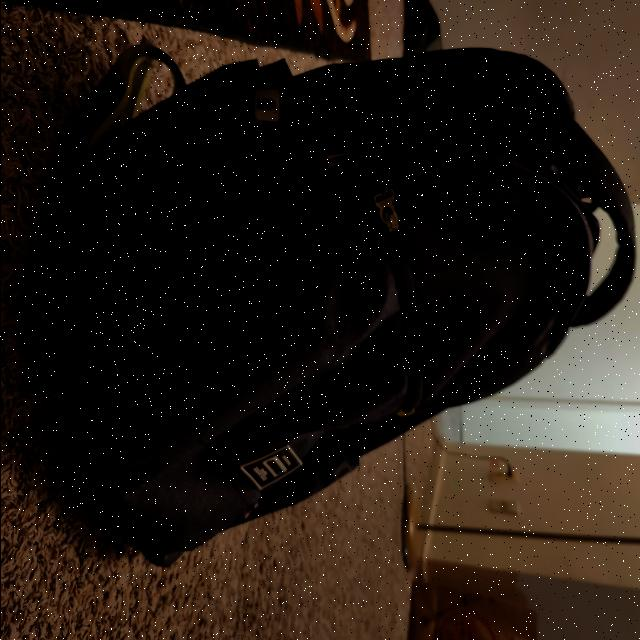bag: (59, 18, 631, 562)
